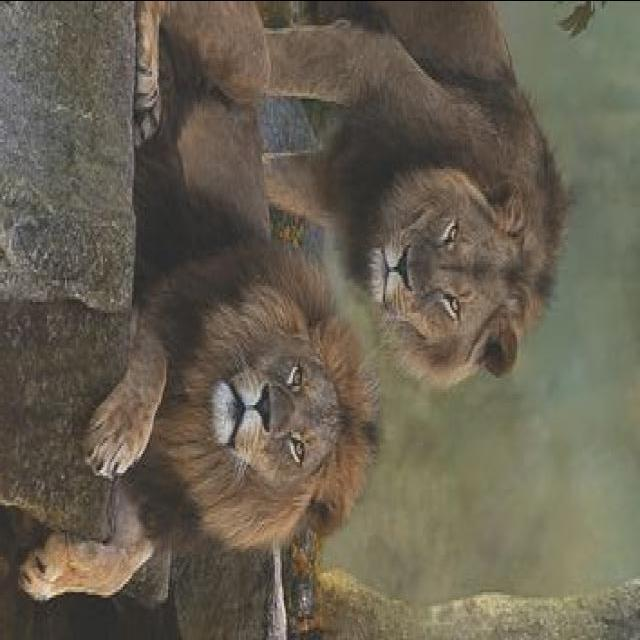lions: (363, 19, 640, 414), (142, 164, 354, 592)
